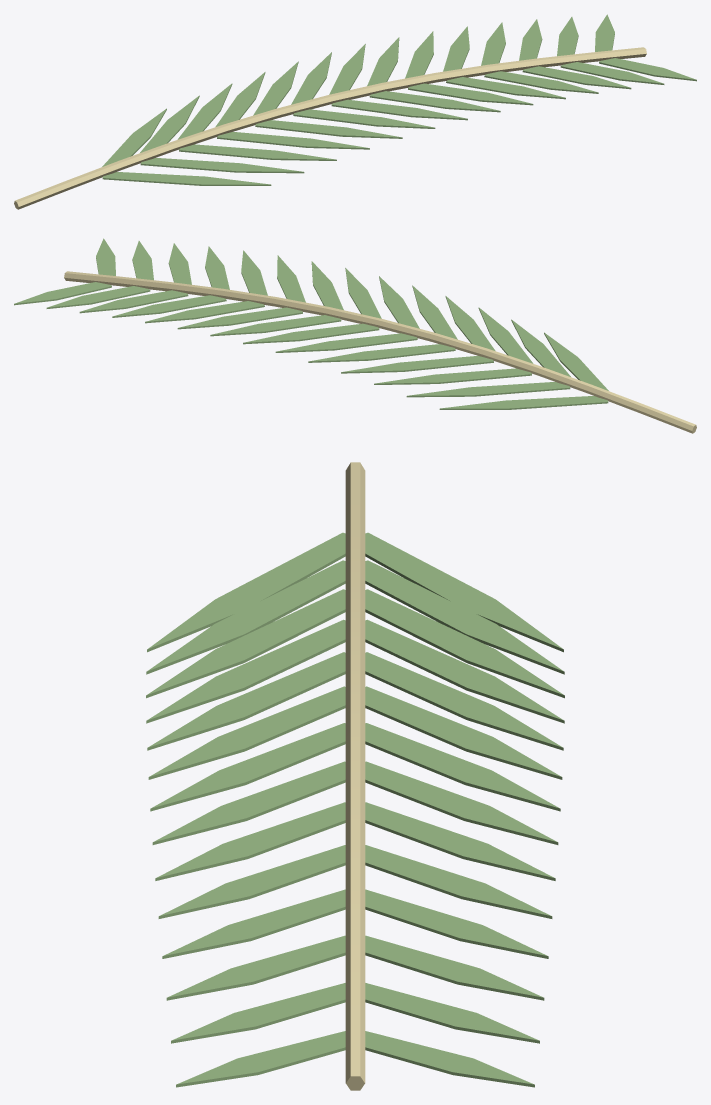
Rendered from Blarak_Frond.fbx.
3 views of the same model, one above another, from view 1: azimuth 30°, elevation 25°; view 2: azimuth 150°, elevation 25°; view 3: azimuth 270°, elevation 25° (orthographic). The views are drawn at different scales.
Parts seen in each view (by area): view 1: Blarak_Frond; view 2: Blarak_Frond; view 3: Blarak_Frond.
Boxes of the visible parts, box(x1,y1,x2,y2) form: Blarak_Frond: box(14, 14, 696, 209); Blarak_Frond: box(14, 238, 696, 433); Blarak_Frond: box(146, 462, 564, 1090).
Bounding box in the file's own units: 1.82 × 0.1007 × 0.5196.
